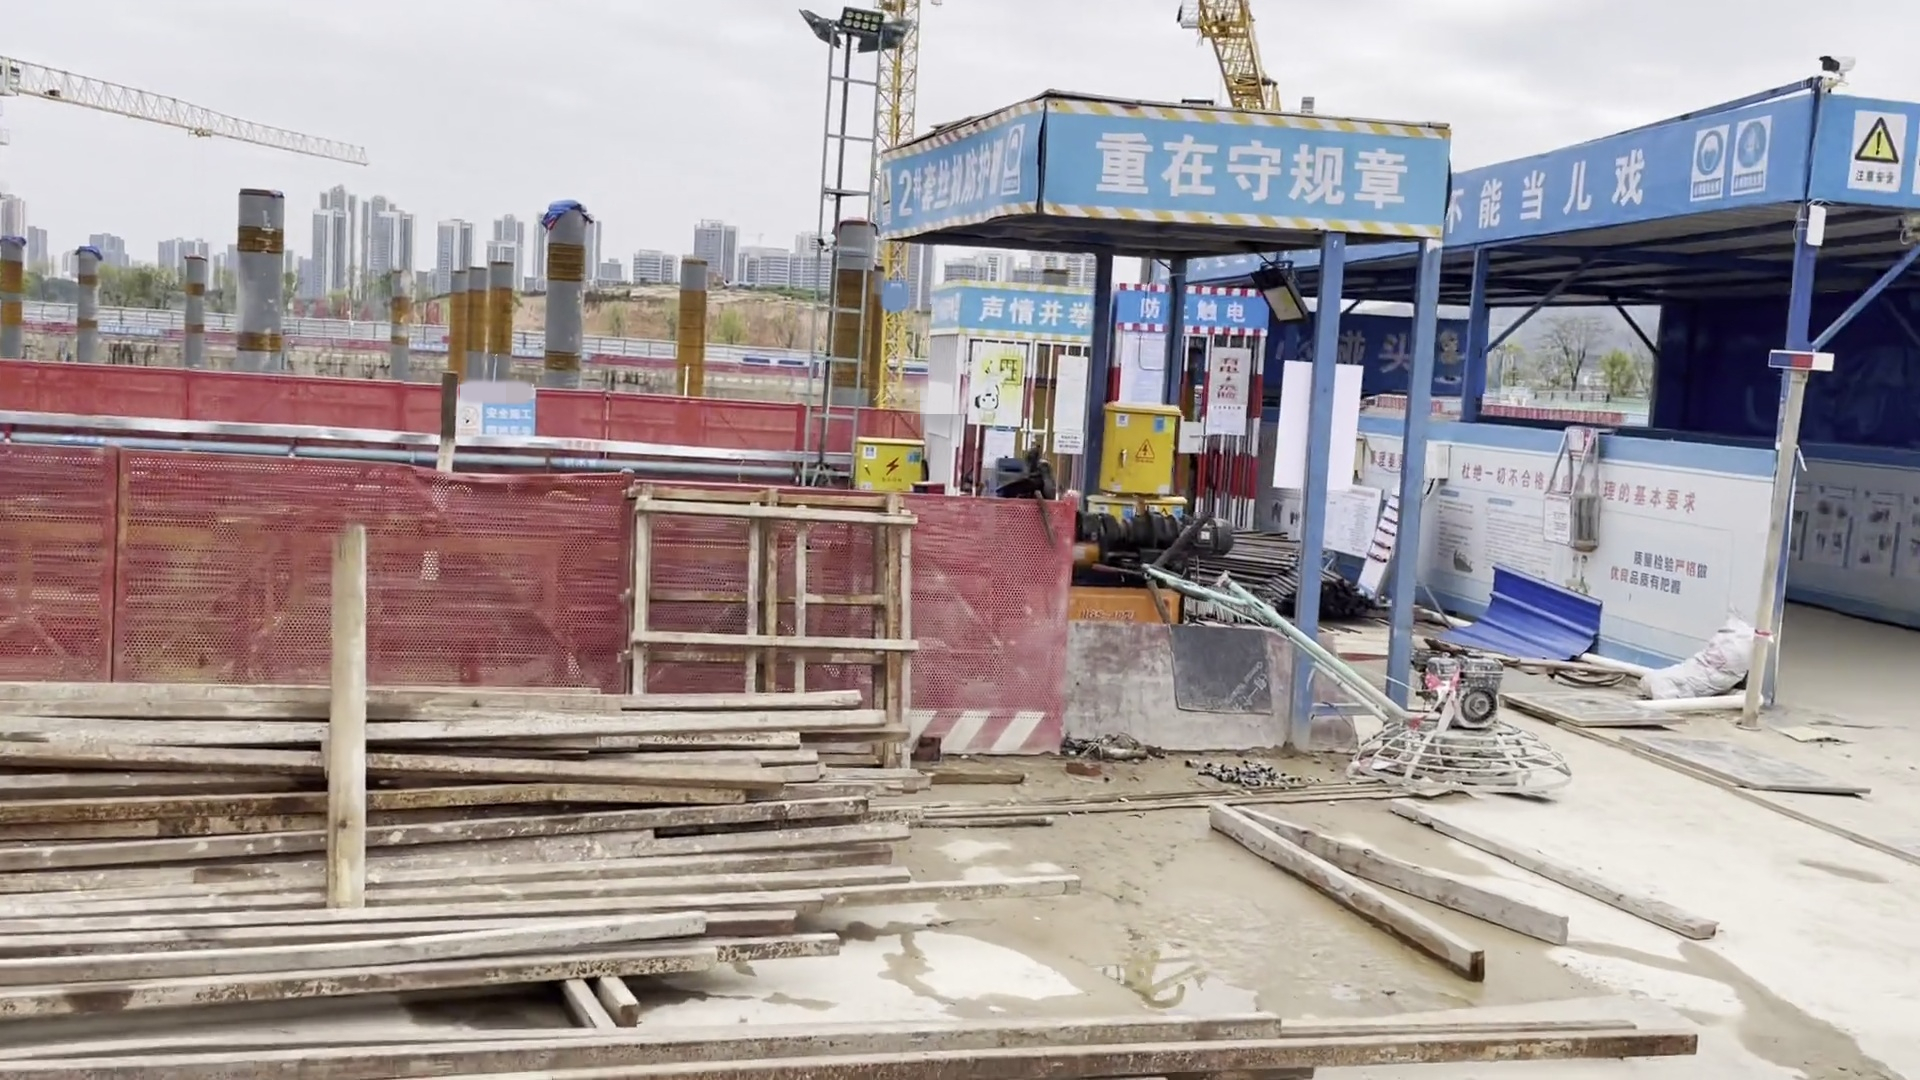ebox: (1098, 393, 1175, 512), (858, 435, 922, 506)
fence: (7, 438, 1075, 742)
slogan: (884, 105, 1406, 258), (1441, 138, 1791, 225), (952, 284, 1258, 338)
wood: (3, 683, 948, 1080)
